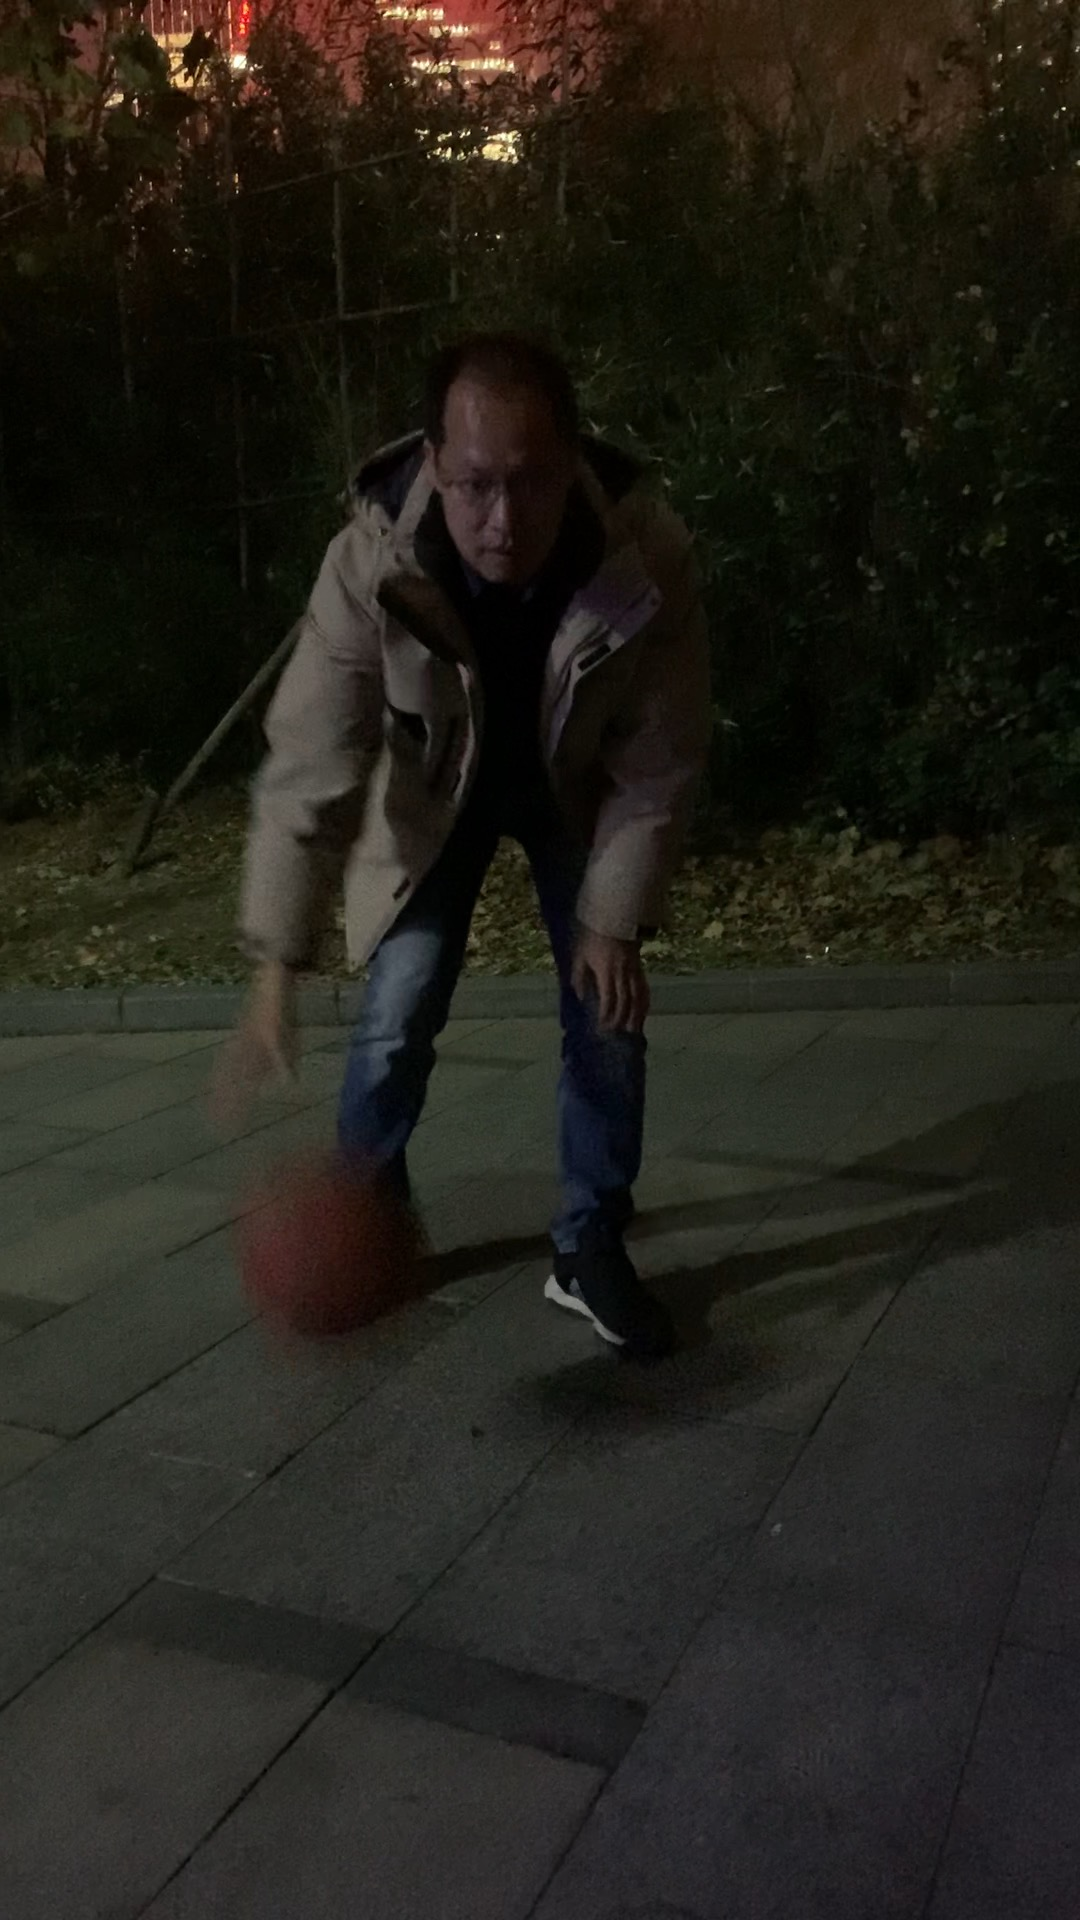ball: (243, 1155, 433, 1337)
